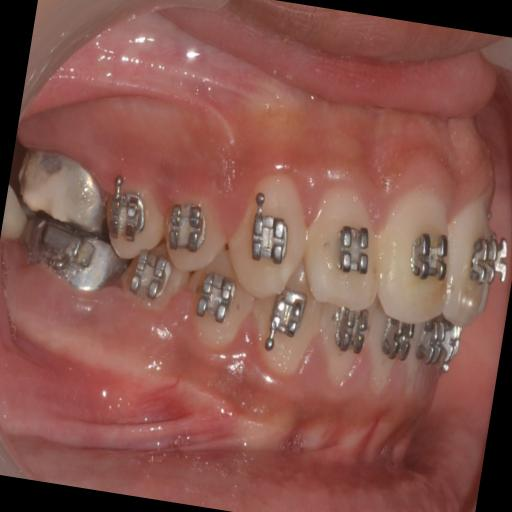correct_brace: (156, 181, 232, 275), (240, 183, 299, 275), (325, 213, 379, 283), (401, 222, 456, 290)
incorrect_brace: (296, 173, 394, 321), (162, 199, 212, 260)
